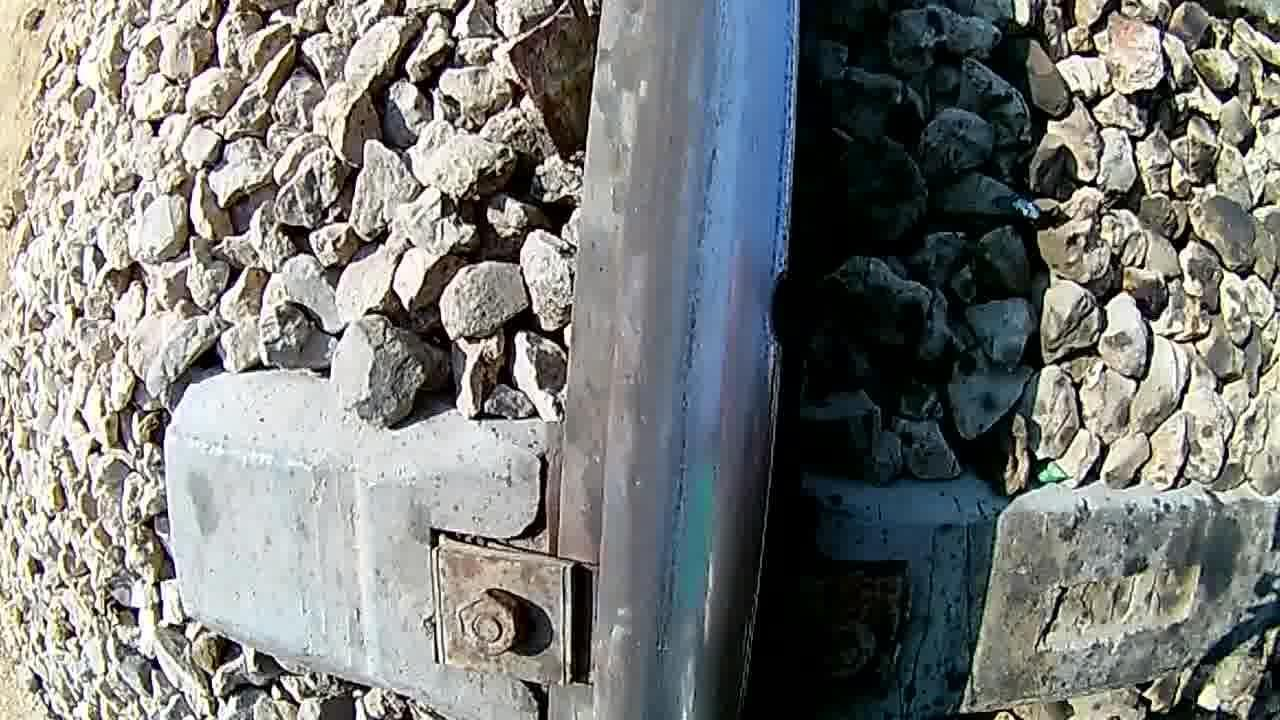crack: (590, 0, 769, 720)
